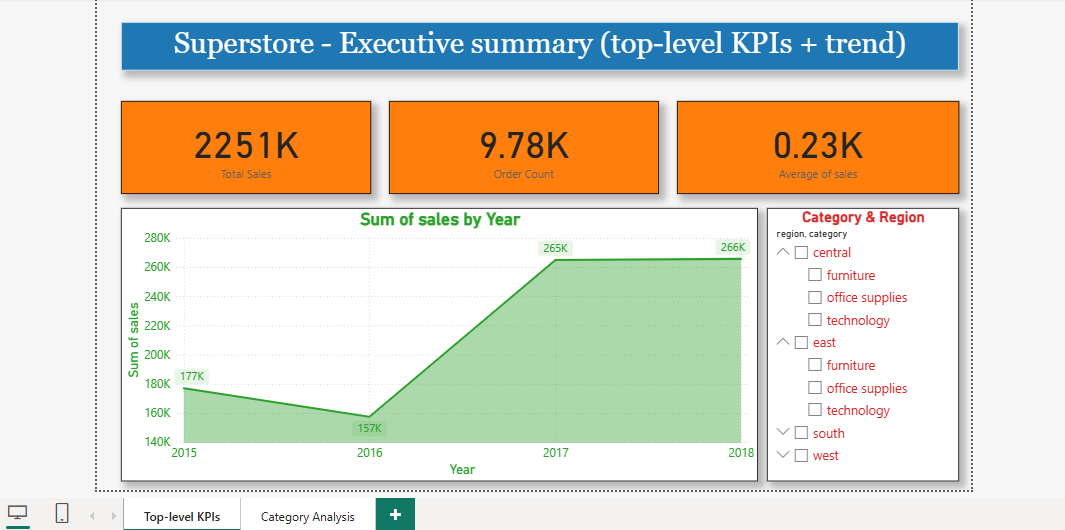

What the dashboard file says about the page in this screenshot:
{"tool":"powerbi","page":{"name":"Top-level KPIs","canvas":[1280,720],"ordinal":0},"visuals":[{"type":"card","fields":{"Values":["Sum(cleaned_superstore_data.sales)"]},"box":[35.3,151.2,366.2,136.1],"z":0},{"type":"card","fields":{"Values":["CountNonNull(cleaned_superstore_data.order_id)"]},"box":[426.7,151.2,394.8,136.1],"z":1000},{"type":"card","fields":{"Values":["Avg(cleaned_superstore_data.sales)"]},"box":[848.3,151.2,413.2,136.1],"z":2000},{"type":"lineChart","fields":{"Y":["Sum(cleaned_superstore_data.sales)"],"Category":["cleaned_superstore_data.order_date.Variation.Date Hierarchy.Year"]},"box":[35.3,307.4,932.3,399.8],"z":3000},{"type":"slicer","title":"Category & Region","fields":{"Values":["cleaned_superstore_data.region","cleaned_superstore_data.category"]},"box":[981,307.4,280.5,399.8],"z":4000},{"type":"textbox","box":[35.3,35.3,1226.2,70.6],"z":5000}]}

Visuals, with their boxes on the page's 1280x720 design canvas (x1, y1, x2, y2). These are canvas units, not pixel positions in the 1065x530 screenshot, which may show the page scaled, cropped or inside an application window:
card - Sum(cleaned_superstore_data.sales): box(35, 151, 402, 287)
card - CountNonNull(cleaned_superstore_data.order_id): box(427, 151, 822, 287)
card - Avg(cleaned_superstore_data.sales): box(848, 151, 1262, 287)
lineChart - Sum(cleaned_superstore_data.sales) x cleaned_superstore_data.order_date.Variation.Date Hierarchy.Year: box(35, 307, 968, 707)
"Category & Region" slicer: box(981, 307, 1262, 707)
textbox: box(35, 35, 1262, 106)
